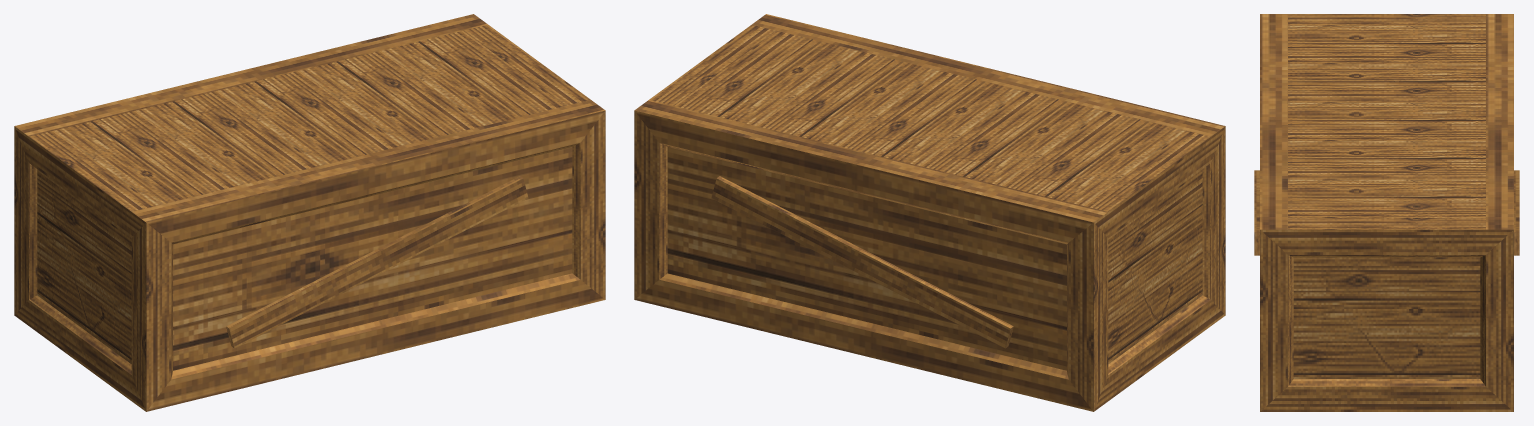
Rendered from Cassa_03_Lunga.obj.
3 views of the same model, side by side, from view 1: azimuth 30°, elevation 25°; view 2: azimuth 150°, elevation 25°; view 3: azimuth 270°, elevation 25° (orthographic). The views are drawn at different scales.
Visible parts, largest first — view 1: Cassa_03_Lunga; view 2: Cassa_03_Lunga; view 3: Cassa_03_Lunga.
Part boxes in pixels (<box>): Cassa_03_Lunga: <box>14,14,605,411</box>; Cassa_03_Lunga: <box>634,14,1225,411</box>; Cassa_03_Lunga: <box>1254,14,1519,411</box>.
Size of the model in its own units: 1.65 by 0.65 by 0.858.
Materials: 1 (1 with a texture image).
